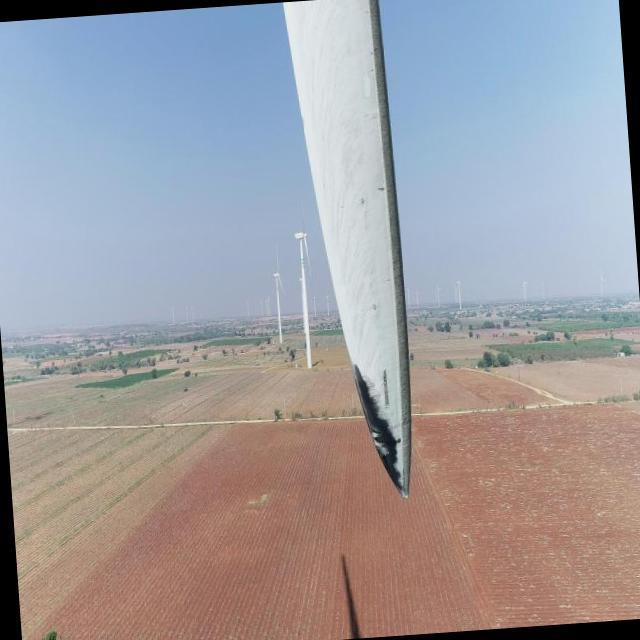Oil LEAKAGE: (351, 363, 406, 498)
